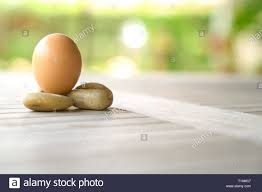egg: (31, 34, 82, 94)
